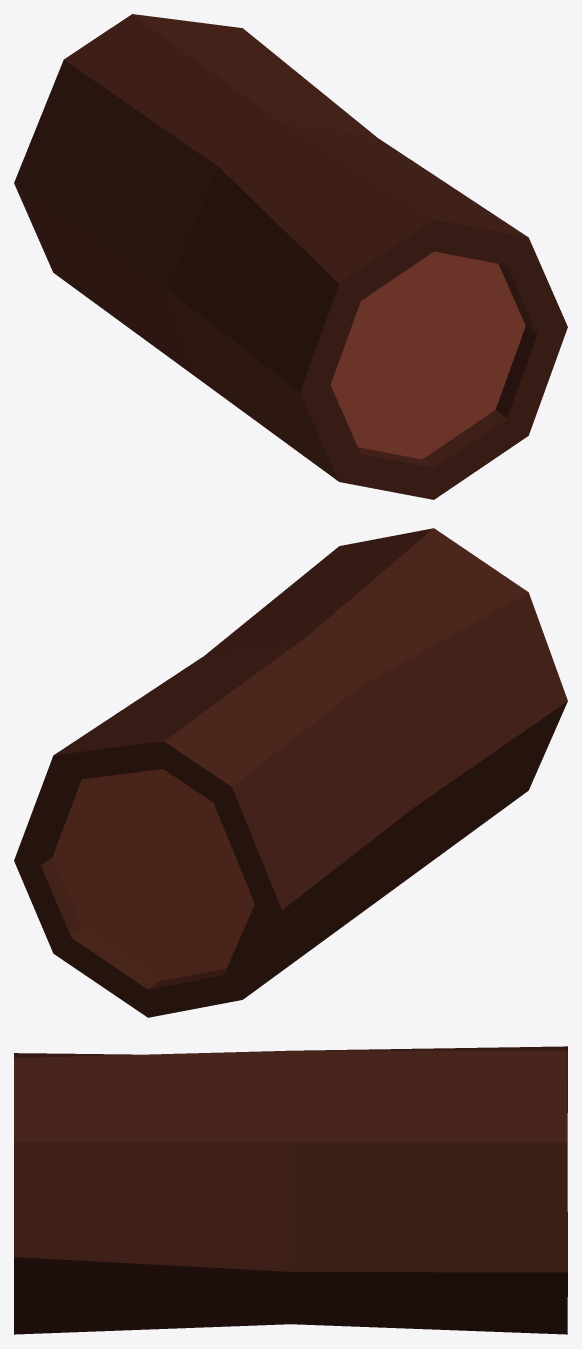
Rendered from log_4b.fbx.
The picture shows the model from 3 angles, top to bottom: view 1: azimuth 30°, elevation 25°; view 2: azimuth 150°, elevation 25°; view 3: azimuth 270°, elevation 25°; orthographic projection. The views are drawn at different scales.
Parts seen in each view (by area): view 1: log_4b; view 2: log_4b; view 3: log_4b.
Boxes of the visible parts, x1,y1,x2,y2 form: log_4b: (14, 14, 567, 499); log_4b: (14, 528, 567, 1017); log_4b: (14, 1046, 567, 1334).
Bounding box in the file's own units: 53.19 × 53.18 × 98.37.
